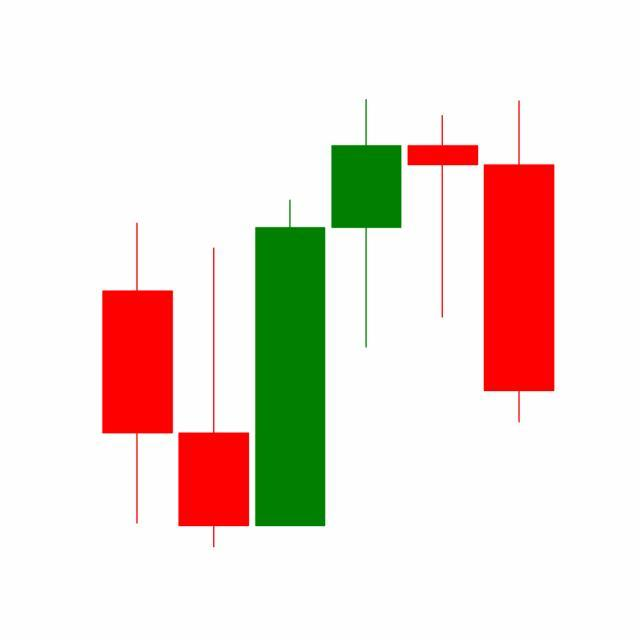Dragonfly Doji: (404, 114, 482, 321)
